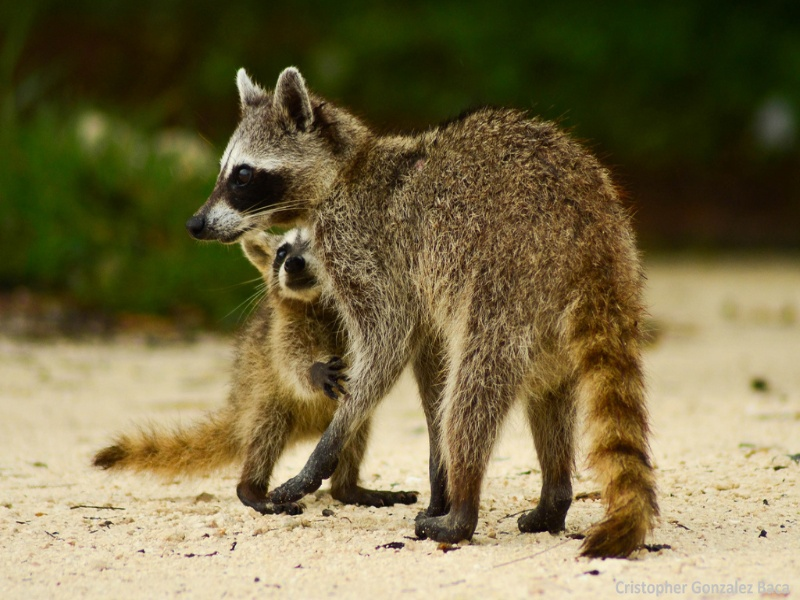raccoon: (193, 69, 672, 558), (97, 225, 418, 514)
